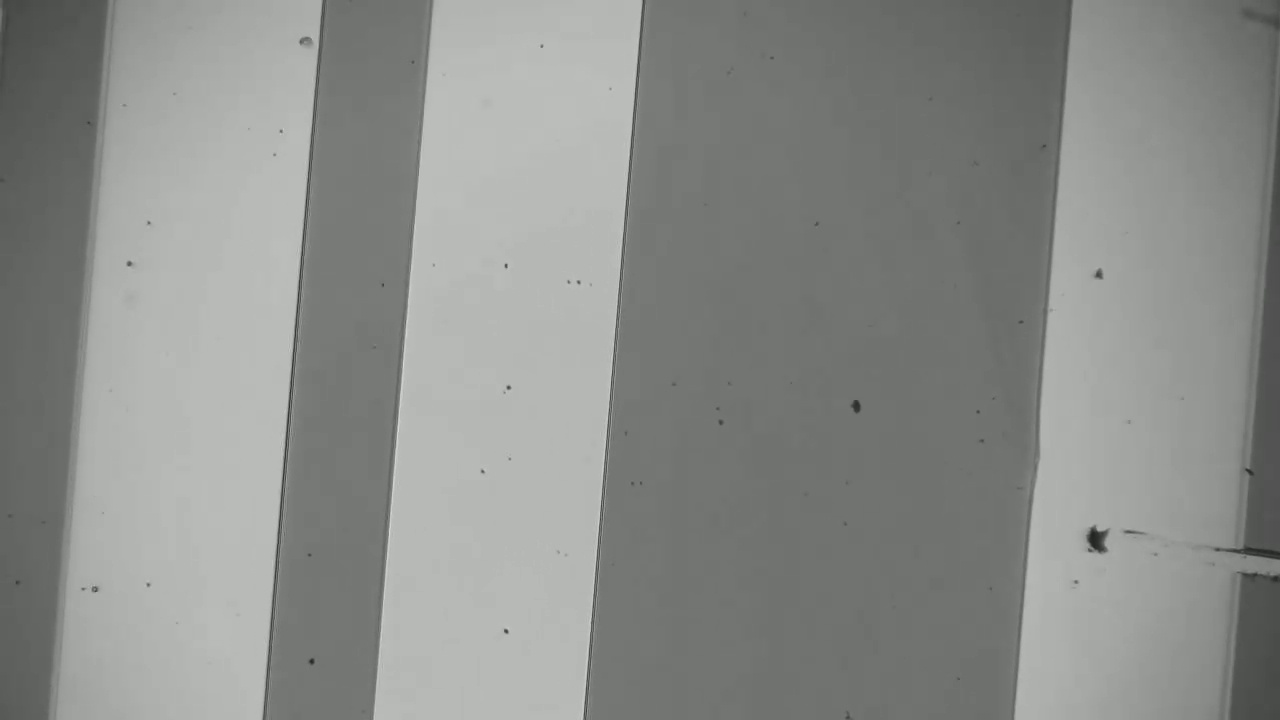Short_circuit: (1211, 523, 1279, 595)
